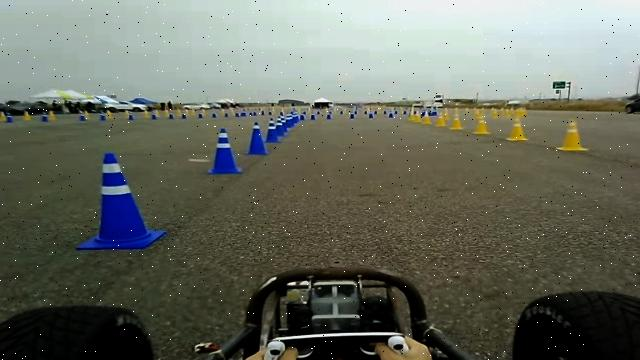blue cone: (76, 151, 166, 250), (207, 128, 243, 174), (245, 121, 269, 155), (264, 119, 280, 143)
yellow cone: (555, 118, 588, 151), (505, 107, 529, 141), (472, 110, 491, 134), (449, 103, 465, 130)
